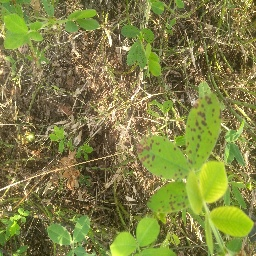GroundNut_Leaf: (191, 83, 224, 162), (134, 133, 189, 180), (127, 26, 164, 78), (212, 206, 254, 241), (3, 14, 44, 49), (140, 183, 190, 211), (200, 166, 226, 204), (107, 229, 137, 256), (137, 212, 160, 246), (44, 222, 72, 247), (73, 213, 94, 240), (72, 16, 102, 31)
